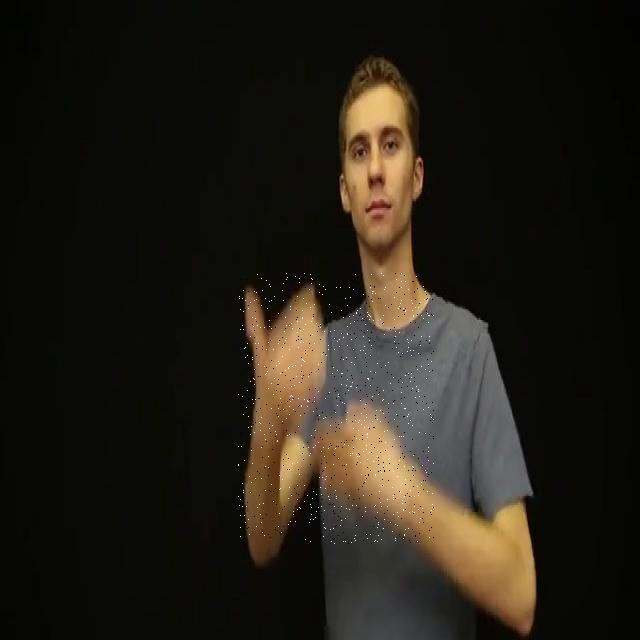bread: (238, 273, 434, 544)
